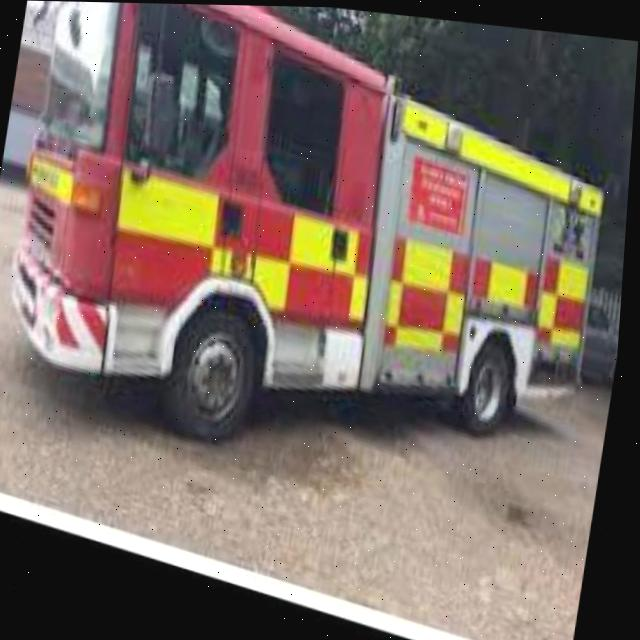emergency: (0, 0, 636, 479)
